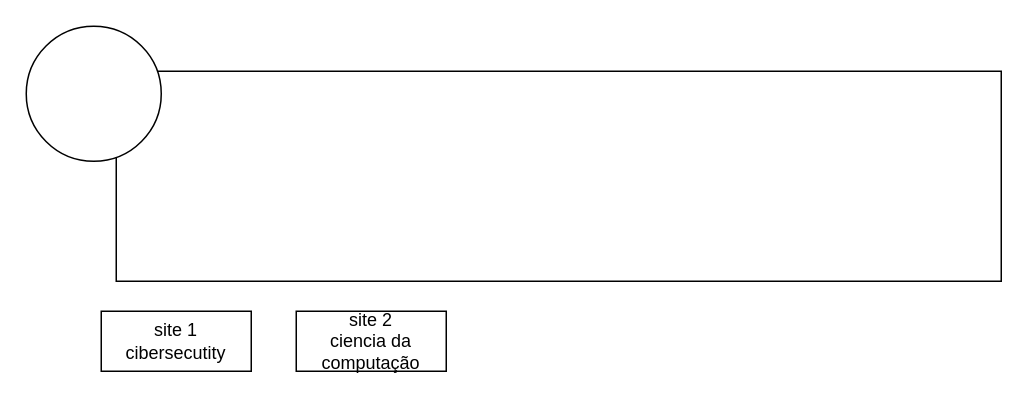
Image size: 1028x399. Some labels were removed from this diagram. The shapes that lost their labels are listed below. From the top down, each one's box as (x1, y1, x2, y2) in pixels, then its label:
(25, 25, 161, 161): LOGO
(115, 70, 1001, 281): banner
